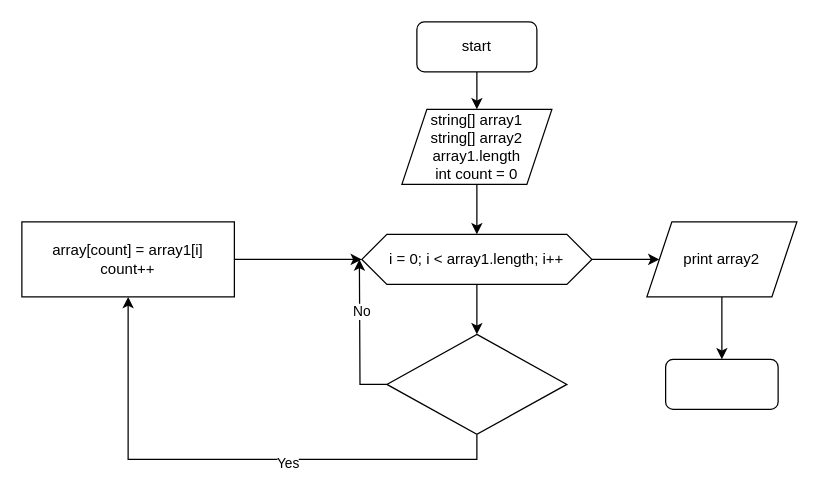
This 819x493 diagram has some shape labels left out. Here are the shapes that lost their labels. From the top down, the centre of each, then its label:
point (476, 383): array1[i].length <= 3
point (721, 383): finish
